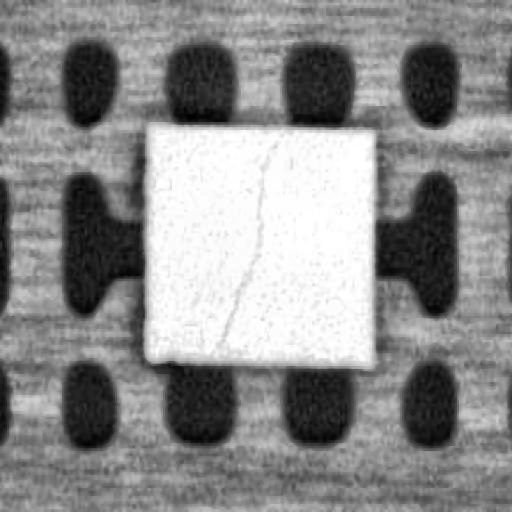DIE_CRACK: (214, 135, 276, 350)
